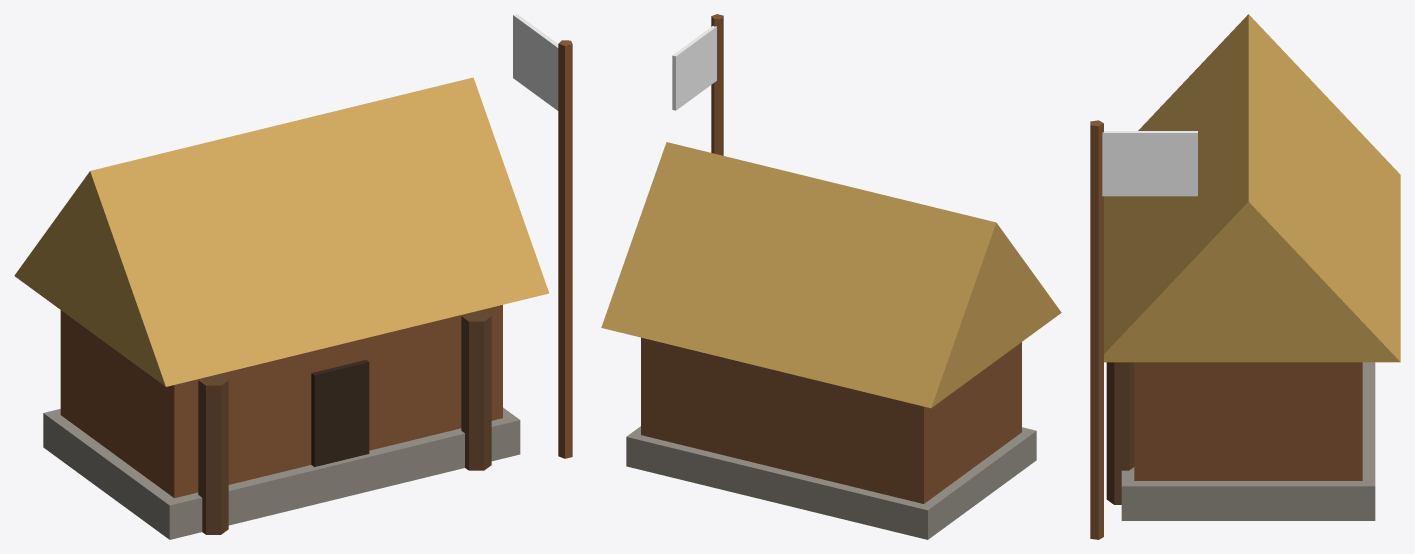
File: townhall.glb
The picture shows the model from 3 angles, left to right: view 1: azimuth 30°, elevation 25°; view 2: azimuth 150°, elevation 25°; view 3: azimuth 270°, elevation 25°; orthographic projection. The views are drawn at different scales.
Visible parts, largest first — view 1: townhall; view 2: townhall; view 3: townhall.
Boxes of the visible parts, bbox=[...] form: townhall: bbox=[14, 14, 572, 539]; townhall: bbox=[601, 14, 1061, 539]; townhall: bbox=[1090, 14, 1400, 539].
Bounding box in the file's own units: 3.71 × 3.6 × 2.45.
